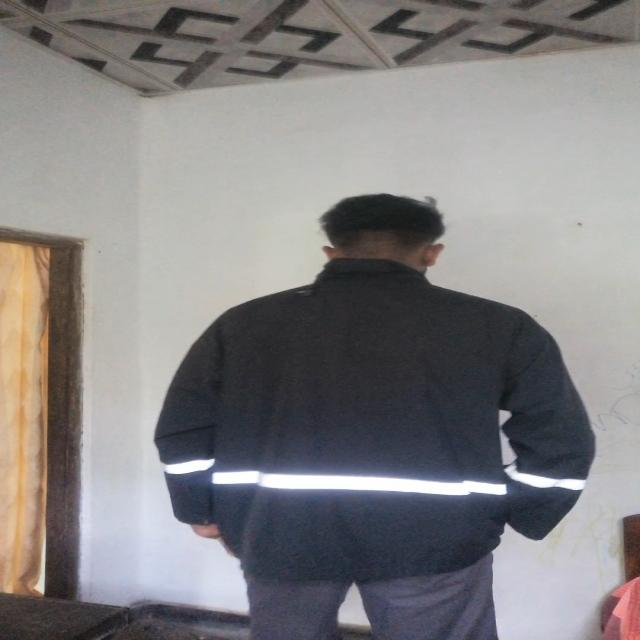Jacket_Wearer: (144, 240, 610, 618)
